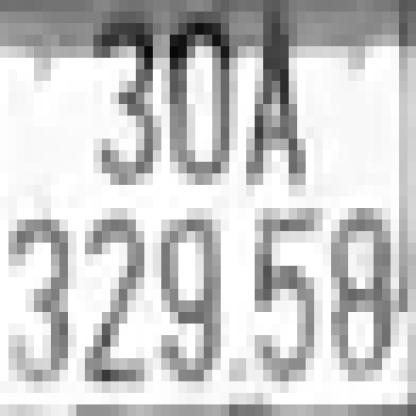0: (170, 23, 229, 185)
2: (85, 208, 153, 381)
3: (94, 23, 162, 197), (8, 208, 68, 370)
5: (246, 208, 306, 370)
8: (323, 208, 382, 370)
9: (162, 208, 212, 370)
A: (237, 11, 306, 185)
